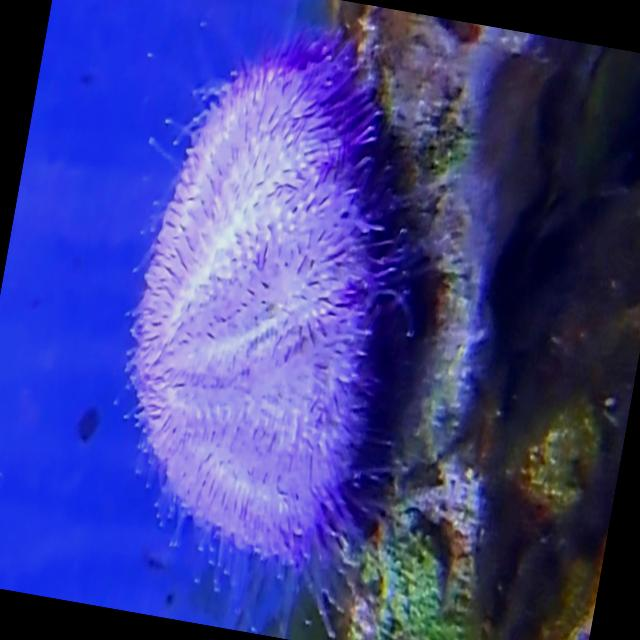Deniz Kestanesi: (90, 8, 482, 598)
